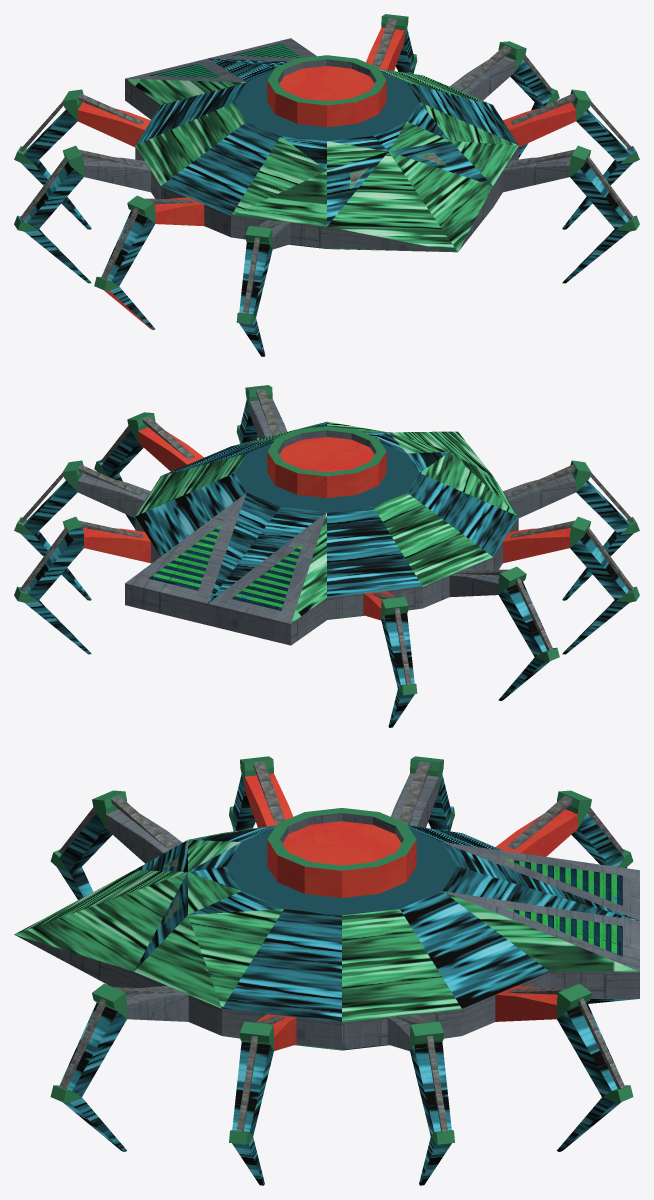
File: 蜘蛛V3[载具]贴图版.fbx
The picture shows the model from 3 angles, top to bottom: view 1: azimuth 30°, elevation 25°; view 2: azimuth 150°, elevation 25°; view 3: azimuth 270°, elevation 25°; orthographic projection. The views are drawn at different scales.
Visible parts, largest first — view 1: Group6, Group7, Group10, Group8, Group5, Group2, Group3, Group4, Group9; view 2: Group6, Group2, Group9, Group3, Group4, Group10, Group5, Group8, Group7; view 3: Group6, Group9, Group7, Group4, Group5, Group3, Group8, Group2, Group10.
Boxes of the visible parts, bbox=[...] form: Group6: bbox=[125, 38, 518, 252]; Group7: bbox=[503, 145, 639, 283]; Group10: bbox=[14, 145, 150, 283]; Group8: bbox=[14, 89, 150, 229]; Group5: bbox=[503, 89, 639, 229]; Group2: bbox=[94, 195, 204, 329]; Group3: bbox=[450, 41, 559, 157]; Group4: bbox=[236, 220, 290, 356]; Group9: bbox=[366, 14, 417, 73]; Group6: bbox=[125, 421, 518, 645]; Group2: bbox=[503, 516, 639, 654]; Group9: bbox=[14, 516, 150, 654]; Group3: bbox=[14, 460, 150, 600]; Group4: bbox=[503, 460, 639, 600]; Group10: bbox=[449, 566, 559, 700]; Group5: bbox=[94, 412, 203, 528]; Group8: bbox=[363, 591, 417, 727]; Group7: bbox=[236, 385, 287, 443]; Group6: bbox=[14, 808, 639, 1050]; Group9: bbox=[495, 983, 633, 1151]; Group7: bbox=[50, 983, 188, 1151]; Group4: bbox=[50, 790, 182, 899]; Group5: bbox=[229, 1014, 296, 1185]; Group3: bbox=[387, 1014, 454, 1185]; Group8: bbox=[495, 790, 633, 868]; Group2: bbox=[229, 756, 293, 831]; Group10: bbox=[390, 756, 454, 831].
Size of the model in its own units: 13.06 by 4.04 by 10.43.
